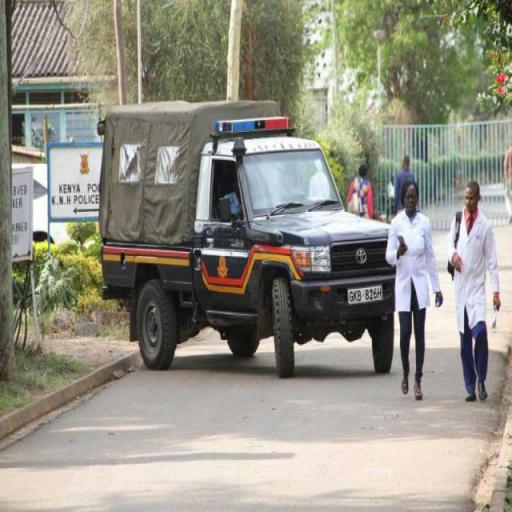Ambulance: (98, 92, 389, 390)
